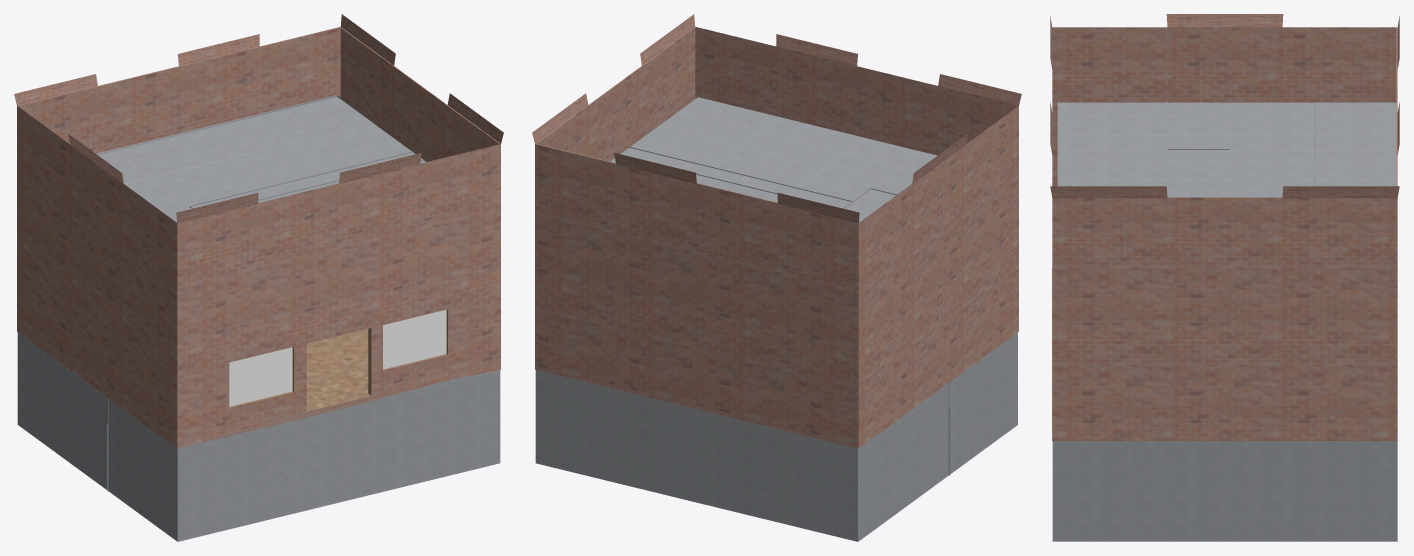
Rendered from BankenV3.glb.
The picture shows the model from 3 angles, left to right: view 1: azimuth 30°, elevation 25°; view 2: azimuth 150°, elevation 25°; view 3: azimuth 270°, elevation 25°; orthographic projection. The views are drawn at different scales.
Parts seen in each view (by area): view 1: Bankmesh2_002, Glass; view 2: Bankmesh2_002; view 3: Bankmesh2_002.
Part boxes in pixels (<box>): Bankmesh2_002: <box>14,14,503,541</box>; Glass: <box>229,309,446,406</box>; Bankmesh2_002: <box>532,14,1021,541</box>; Bankmesh2_002: <box>1050,14,1399,541</box>.
Size of the model in its own units: 15.19 by 14.66 by 13.02.
Materials: 2 (1 with a texture image).
